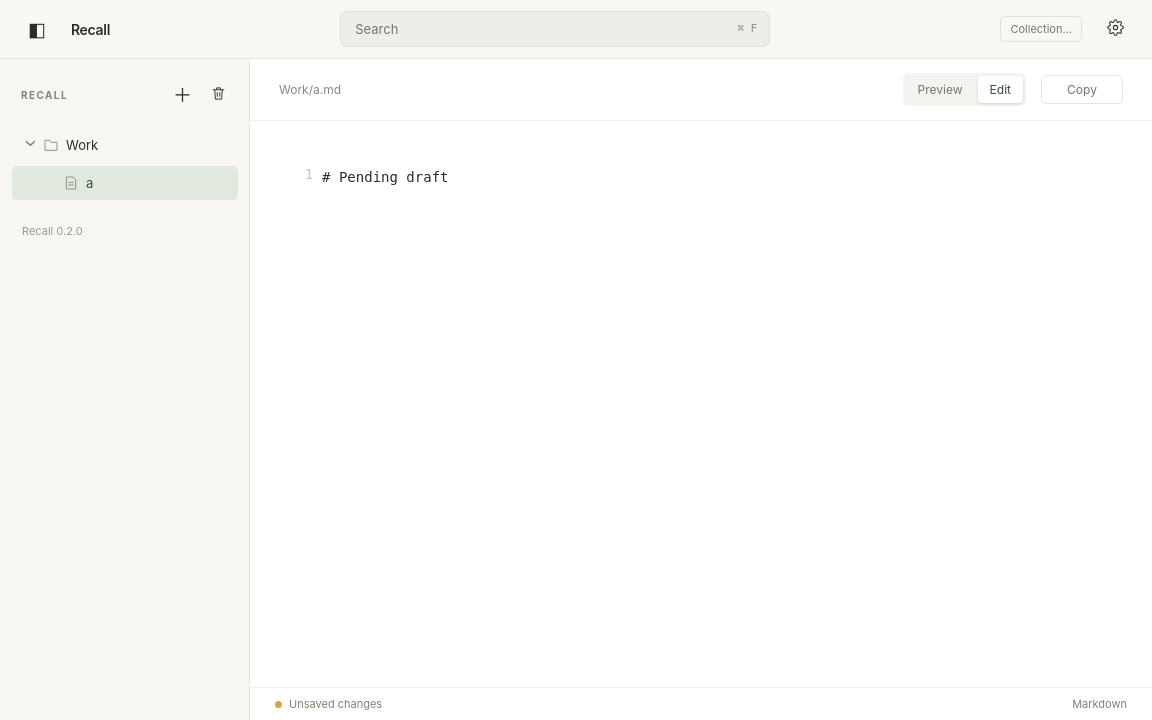
selects collection root after browsing without discarding the open draft
Earlier steps of the test are not shown.
Click the button with aria-label "Select collection root".
click(44, 95)  # box [21, 89, 68, 101]
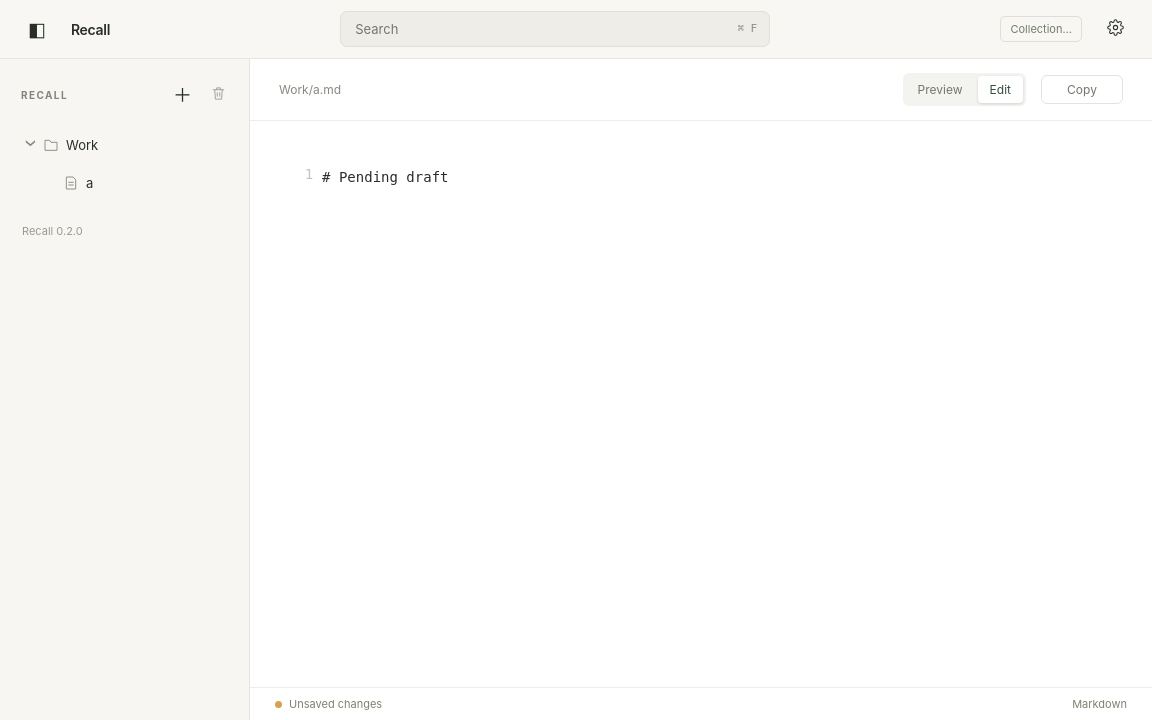
Expected: the text box labelled "# Pending draft" is shown, [322, 169, 448, 185]
Result: the button named "Delete selection" is disabled at [203, 79, 234, 111]
Click the button named "Create".
click(182, 95)  # box [165, 79, 200, 111]
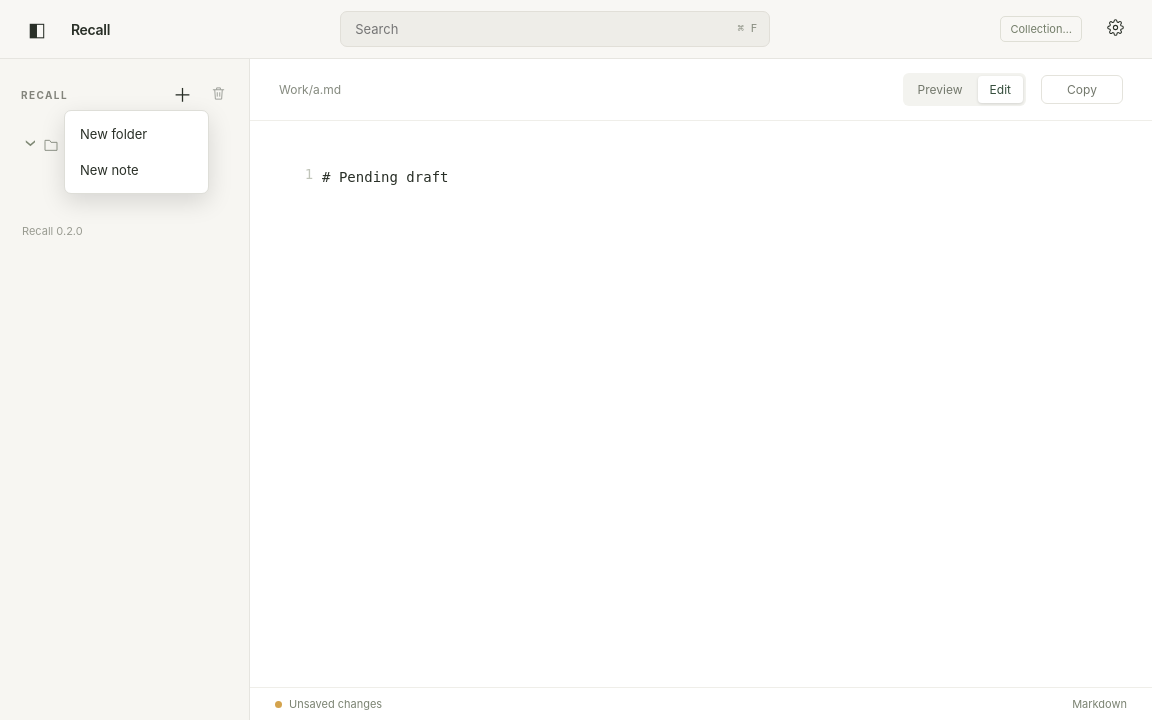
Click the menu item "New folder".
click(136, 134)  # box [70, 116, 203, 152]
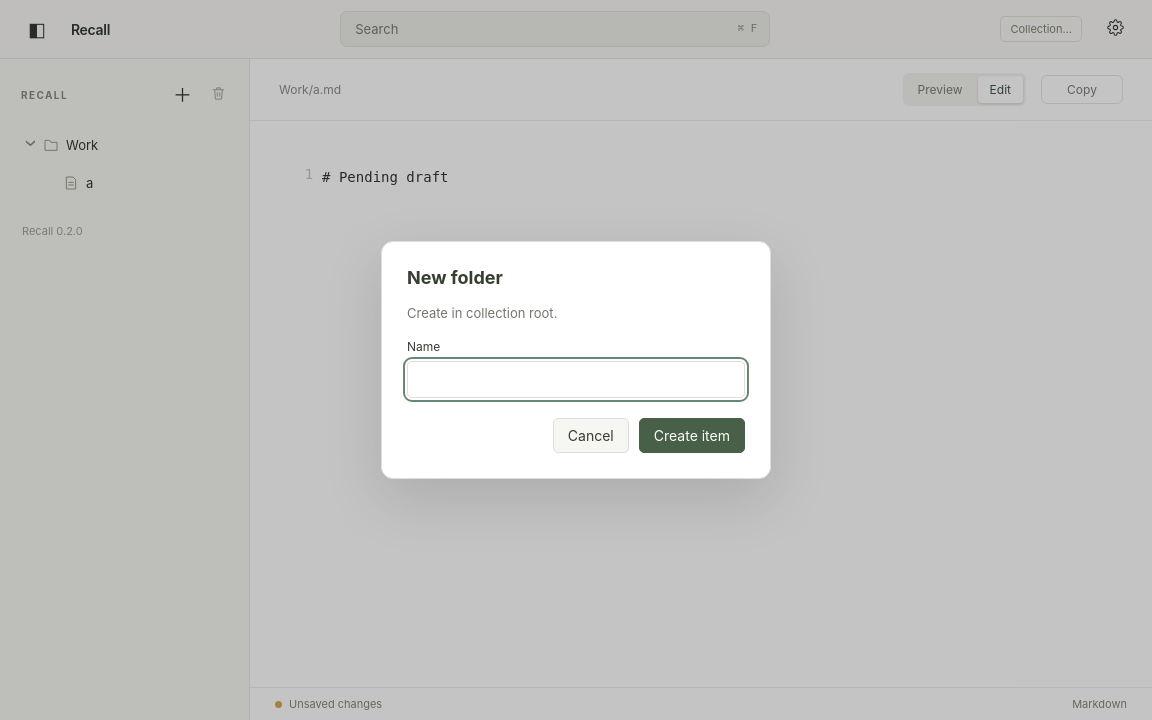
Type "Top level" into the field labelled "Name".
click(576, 379); type("Top level")  # box [407, 361, 745, 398]
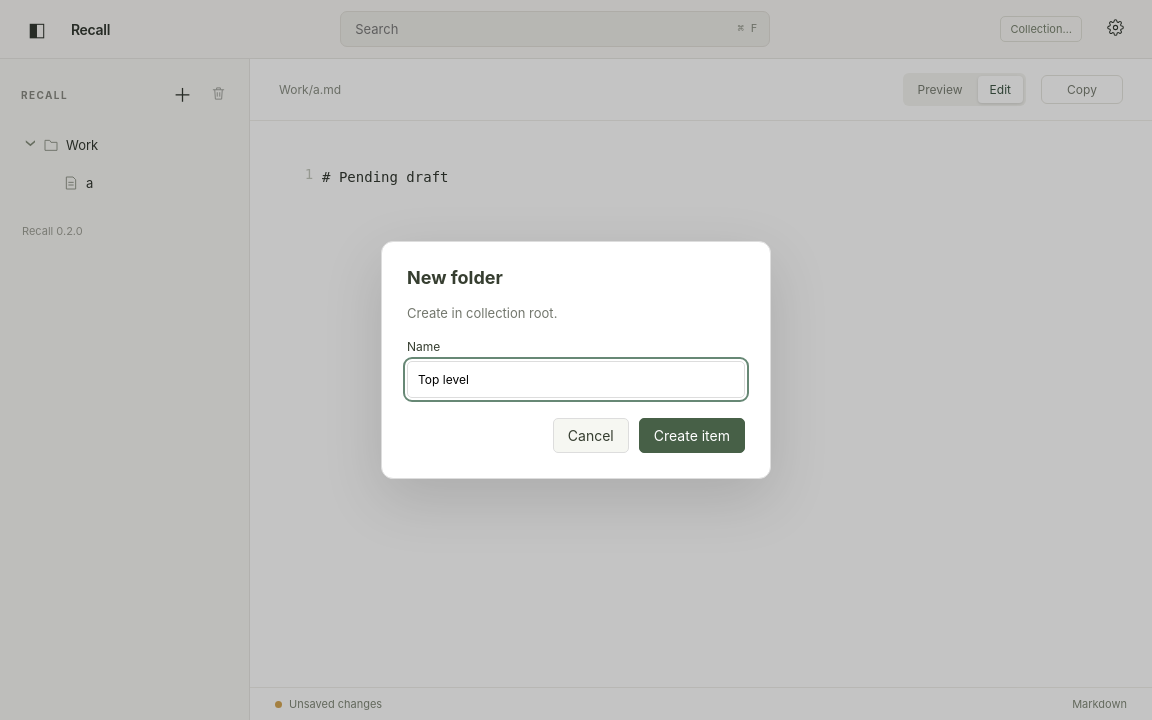
Click the button "Create item".
click(692, 435)  # box [639, 418, 745, 453]
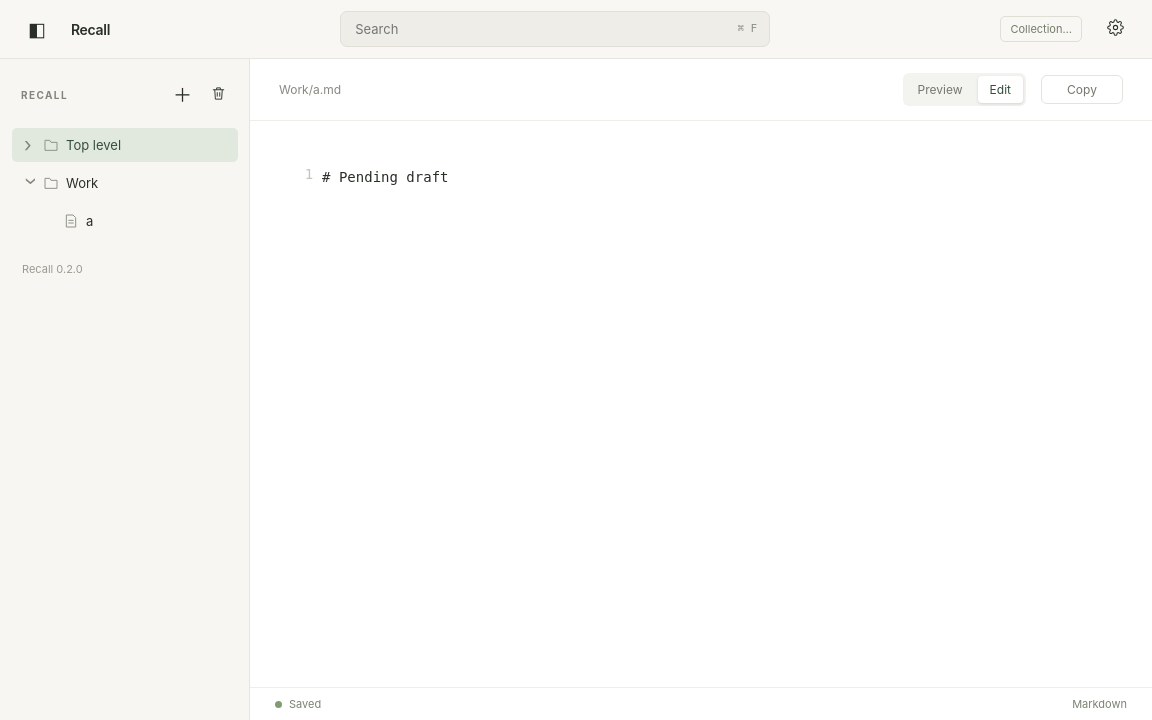
Expected: the text box labelled "# Pending draft" is shown, [322, 169, 448, 185]
Result: the list item "Top level" is shown at [12, 128, 238, 162]
Result: the text "Top level" is shown at [66, 137, 121, 153]
